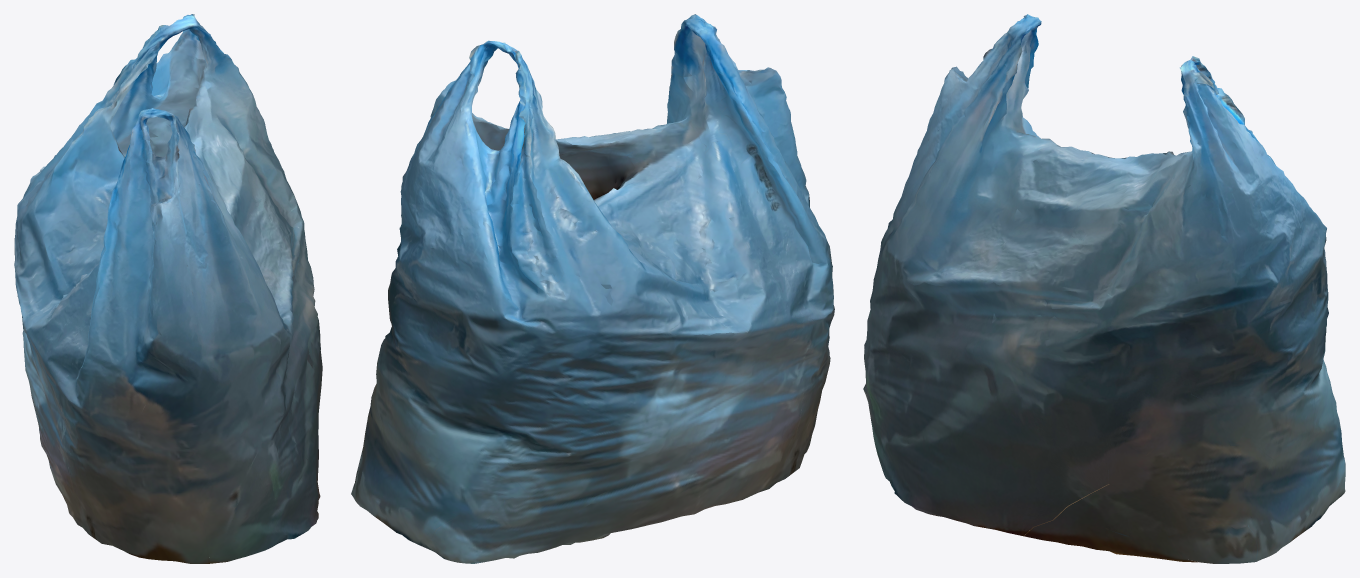
File: blue_plastic_bag.glb
The picture shows the model from 3 angles, left to right: view 1: azimuth 30°, elevation 25°; view 2: azimuth 150°, elevation 25°; view 3: azimuth 270°, elevation 25°; orthographic projection. The views are drawn at different scales.
Parts seen in each view (by area): view 1: Object_4; view 2: Object_4; view 3: Object_4.
Part boxes in pixels (x1=…): Object_4: x1=14, y1=14, x2=322, y2=563; Object_4: x1=351, y1=14, x2=834, y2=563; Object_4: x1=863, y1=14, x2=1345, y2=563.
Size of the model in its own units: 0.5908 by 0.7433 by 0.7305.
Materials: 1 (1 with a texture image).
